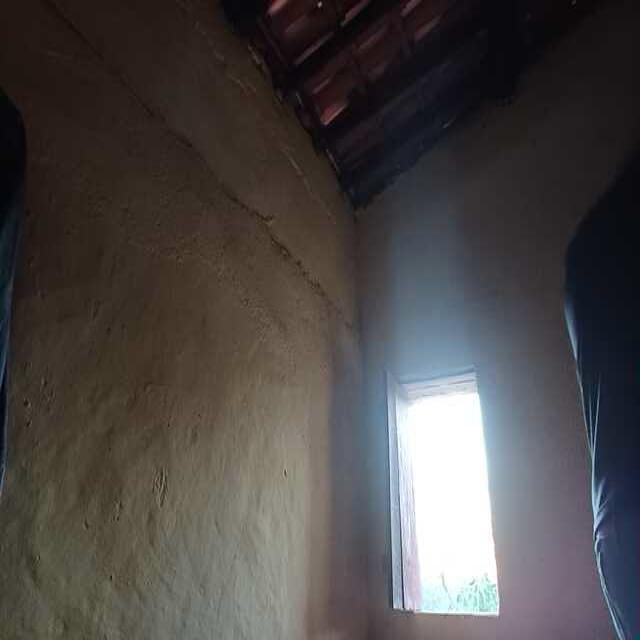pessoa: (567, 144, 640, 640)
